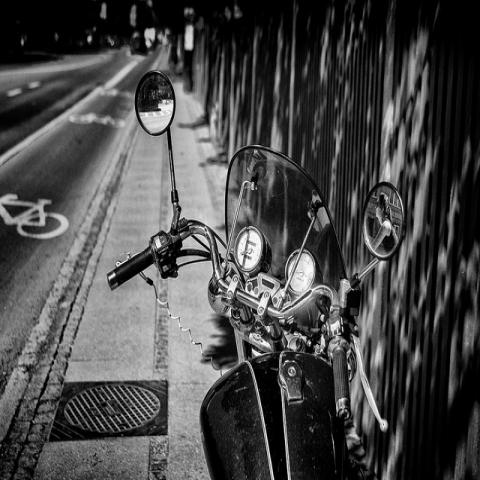motorcycle: (102, 69, 403, 475)
